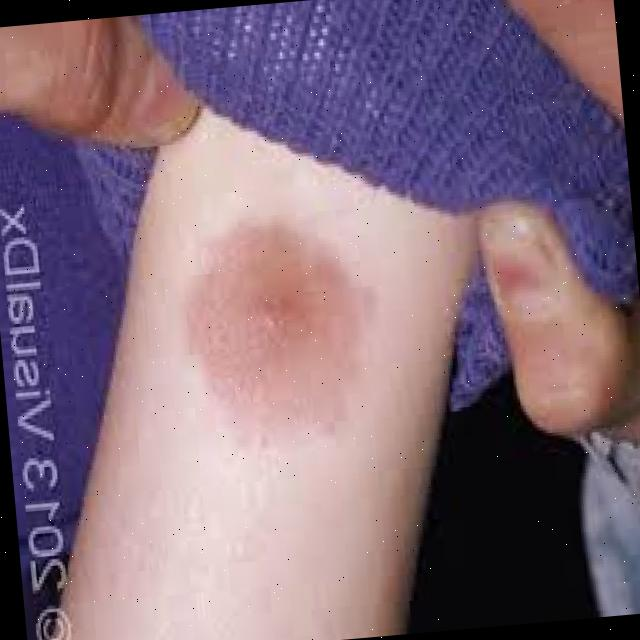kene: (167, 221, 383, 439)
